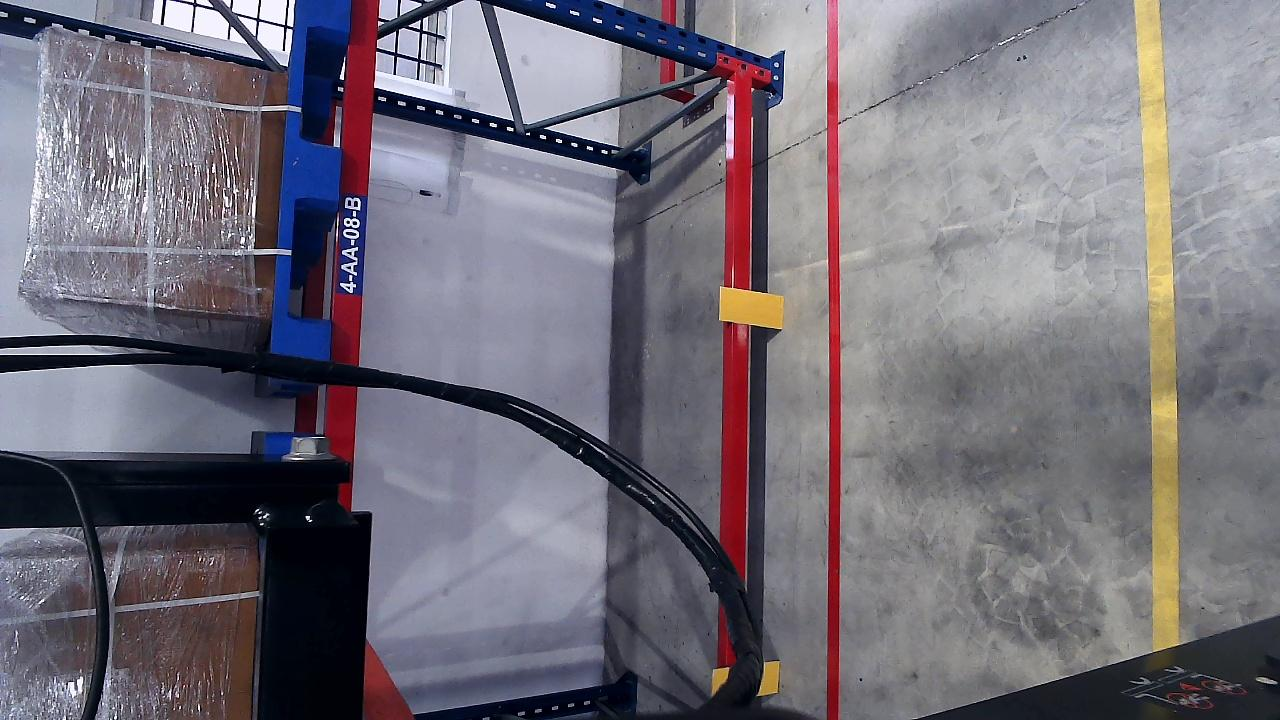h_rack: (326, 0, 383, 506), (725, 67, 759, 652)
orange_strip: (719, 287, 784, 329), (712, 660, 780, 696)
red_line: (823, 0, 842, 720)
small_pallet: (269, 0, 355, 358)
yellow_line: (1135, 0, 1181, 648)
